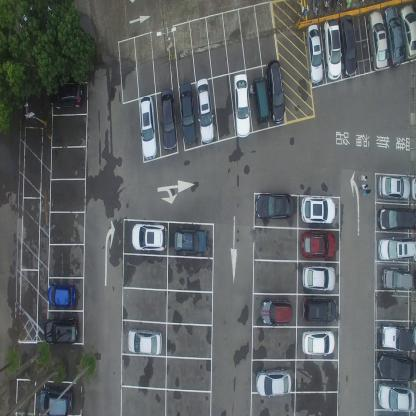car: (367, 9, 388, 72), (384, 4, 404, 69), (266, 56, 285, 123), (255, 189, 294, 221), (376, 350, 416, 381), (304, 22, 324, 84), (379, 320, 414, 354), (139, 94, 157, 160), (339, 14, 358, 76), (197, 75, 214, 143), (300, 228, 336, 260), (377, 382, 415, 412), (50, 76, 83, 110), (160, 85, 177, 151), (323, 18, 341, 80), (179, 81, 196, 145), (256, 367, 291, 398), (43, 316, 79, 346), (234, 72, 250, 139), (130, 224, 168, 252), (301, 195, 335, 226), (302, 260, 336, 291), (398, 3, 416, 61), (378, 205, 416, 232), (302, 296, 336, 325), (38, 386, 72, 415), (127, 328, 162, 355), (378, 238, 414, 264), (172, 228, 208, 254), (252, 76, 271, 125), (302, 329, 336, 355), (259, 299, 292, 325), (378, 174, 410, 200), (380, 268, 414, 292), (47, 281, 76, 308), (410, 176, 416, 202)
